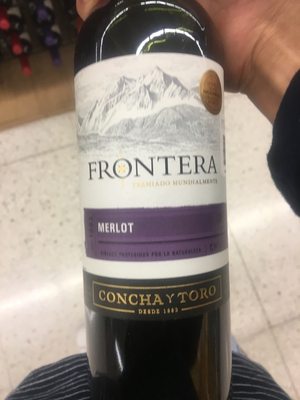frontera merlot: (66, 3, 254, 391)
